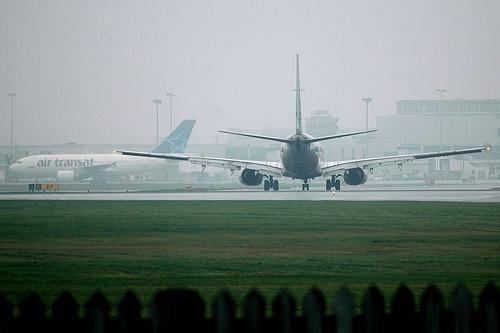aeroplane: (119, 53, 489, 190), (10, 121, 196, 183)
